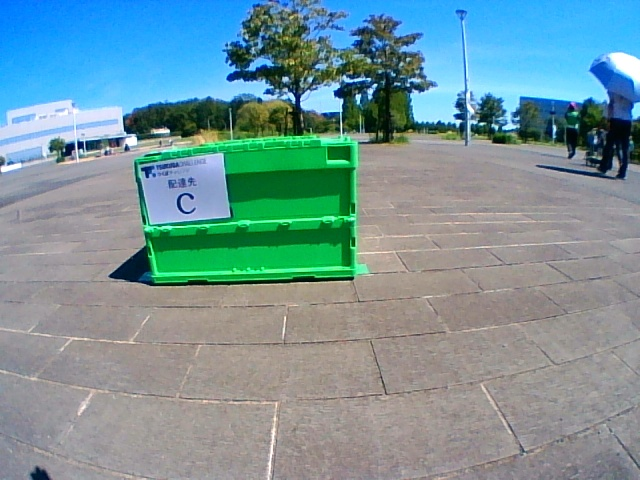green_box: (135, 136, 359, 283)
tag_c: (152, 163, 225, 218)
